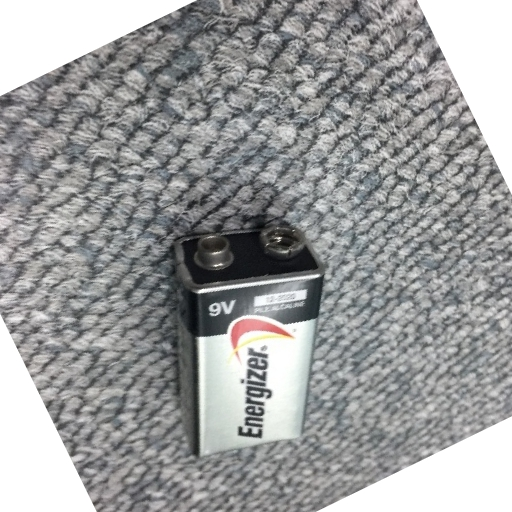Battery_3: (166, 211, 328, 475)
